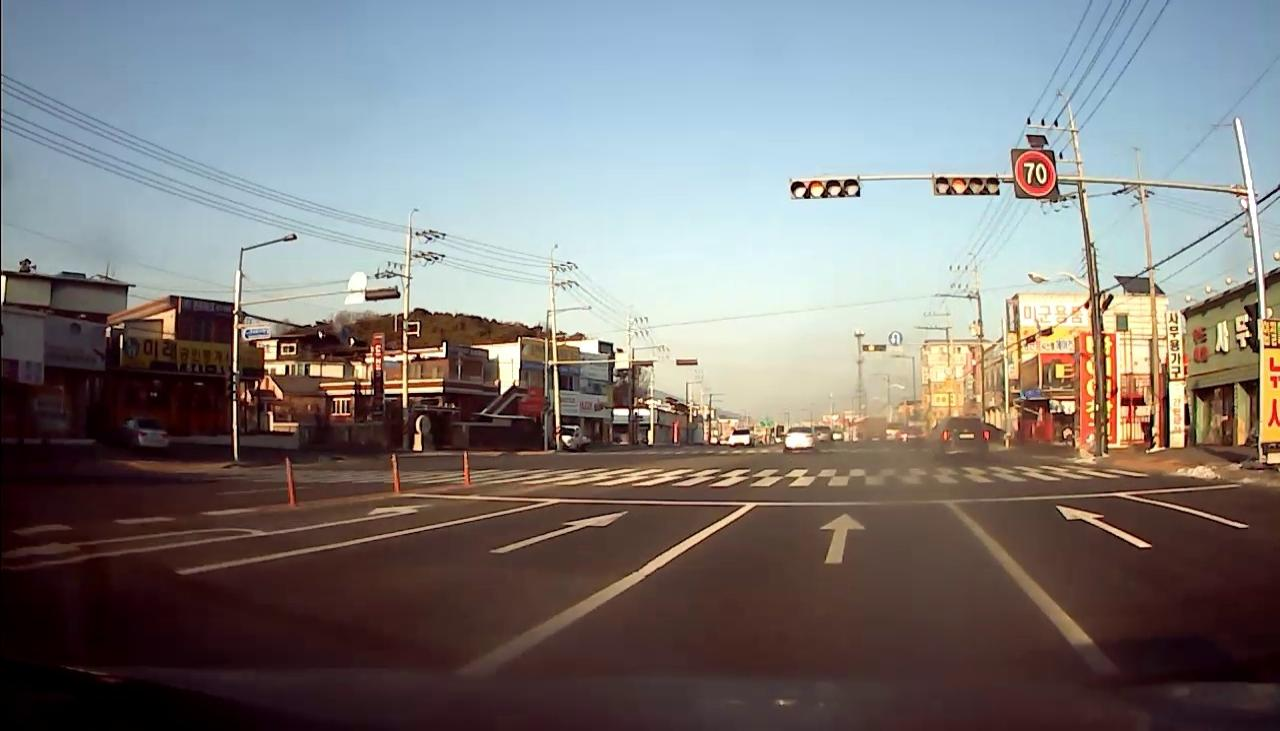Yellow Light: (949, 176, 968, 196), (807, 179, 825, 198), (868, 342, 876, 352)
